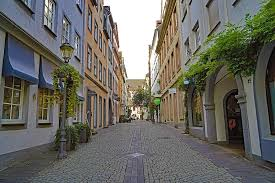strada: (35, 131, 271, 181)
